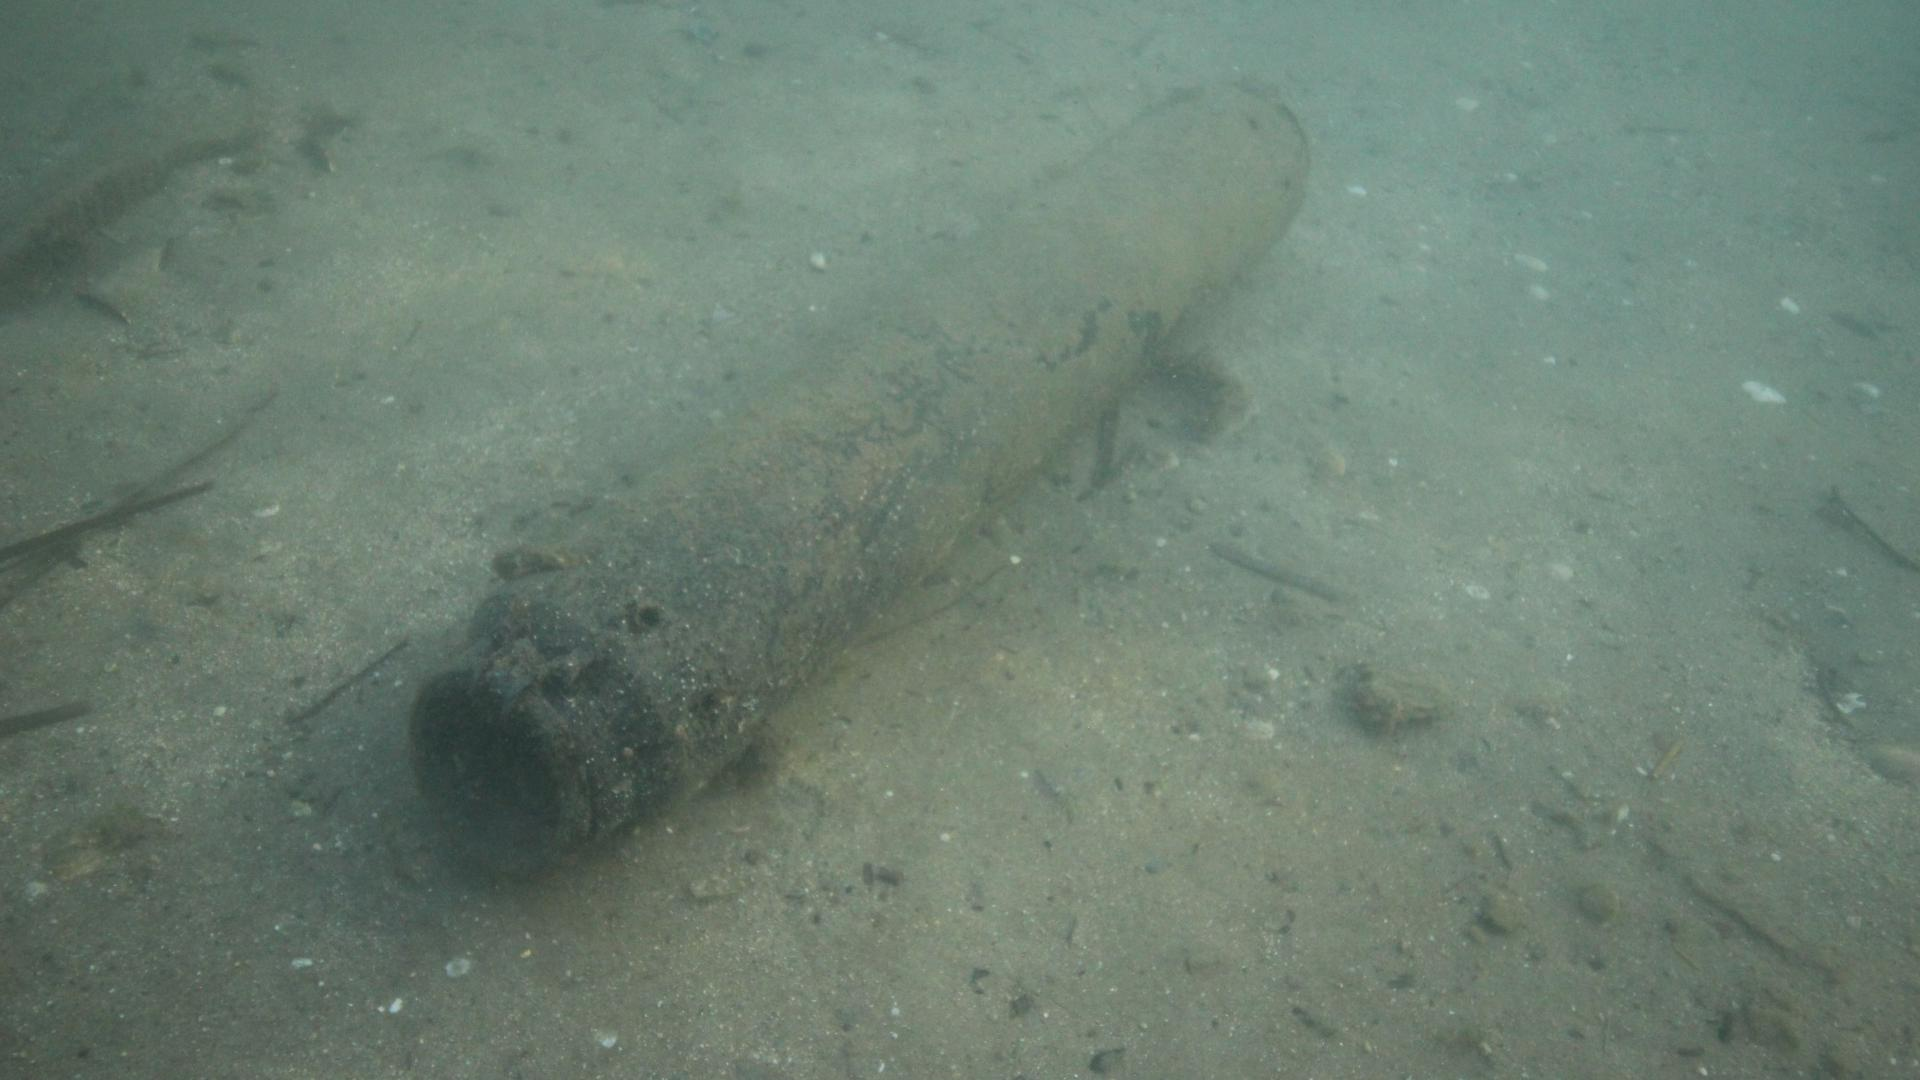eel fish trap: (404, 82, 1309, 877)
